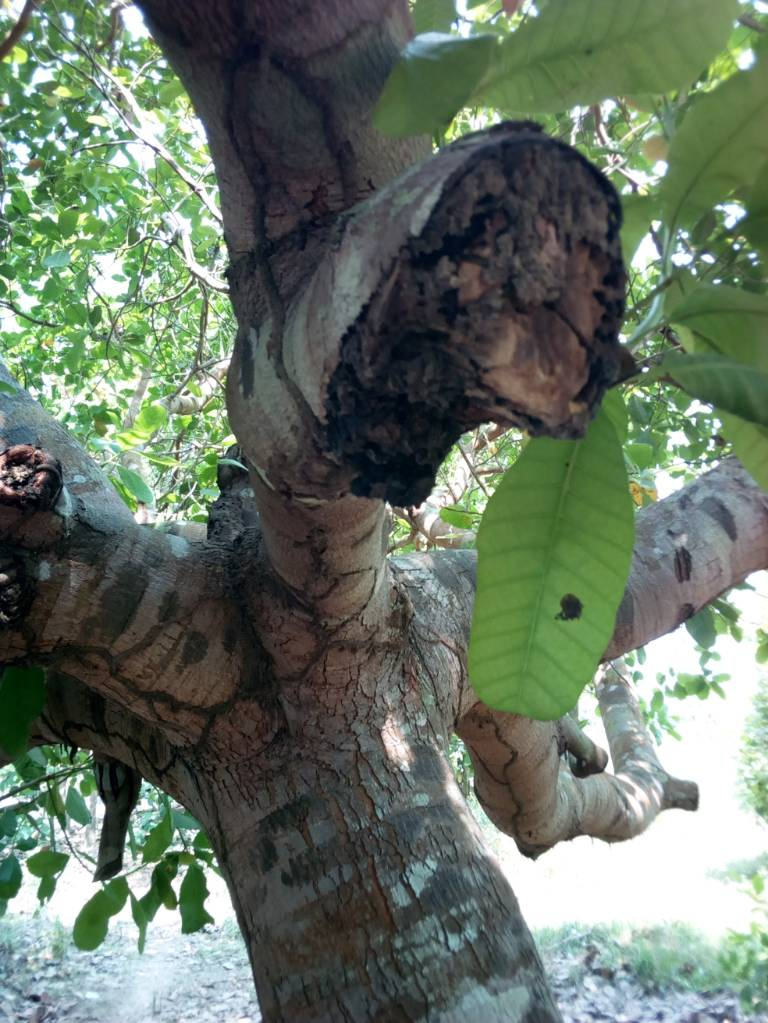Termites: (227, 28, 360, 466), (68, 633, 288, 750), (482, 727, 549, 861)
